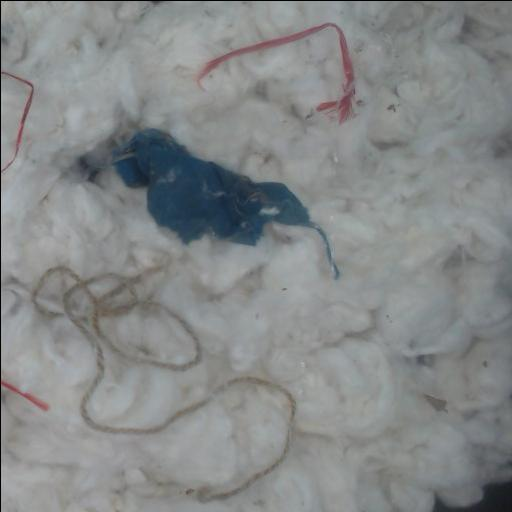cloth: (113, 129, 338, 276)
cotton: (1, 1, 512, 512)
jute: (32, 267, 295, 500)
thread: (196, 22, 356, 124), (1, 70, 33, 172), (1, 379, 46, 410)
